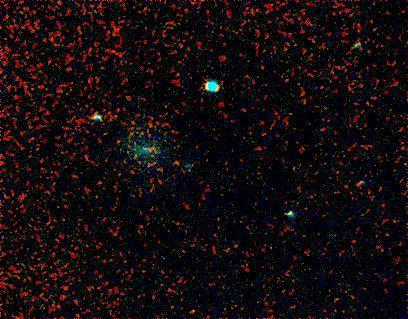star: (160, 146, 190, 176)
